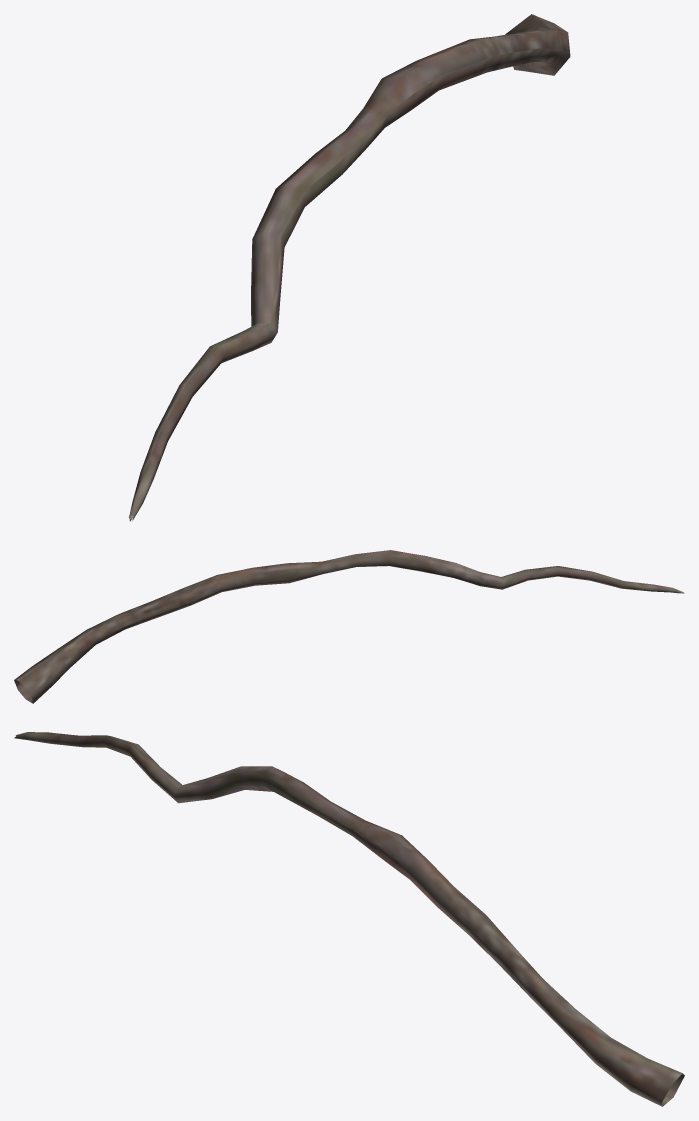
Rendered from SM_Stick_07.fbx.
3 views of the same model, one above another, from view 1: azimuth 30°, elevation 25°; view 2: azimuth 150°, elevation 25°; view 3: azimuth 270°, elevation 25° (orthographic). The views are drawn at different scales.
Parts seen in each view (by area): view 1: SM_Stick_07_LOD0; view 2: SM_Stick_07_LOD0; view 3: SM_Stick_07_LOD0.
Part boxes in pixels (x1=…): SM_Stick_07_LOD0: x1=128, y1=14, x2=570, y2=521; SM_Stick_07_LOD0: x1=14, y1=550, x2=684, y2=703; SM_Stick_07_LOD0: x1=14, y1=732, x2=684, y2=1106.
Size of the model in its own units: 210 by 192 by 51.36.
